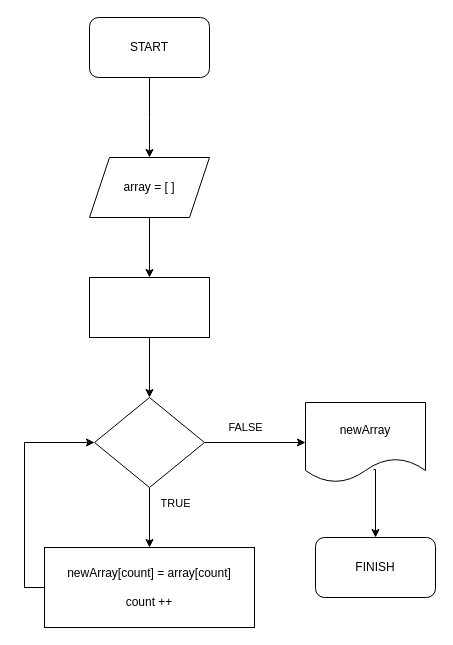
Image size: 453x645. Some labels were removed from this diagram. The box of each missing label's shape, as (x1, y1, x2, y2) in pixels:
count <= 2: (94, 396, 204, 488)
count = 0 newArray = 0: (88, 276, 210, 338)
